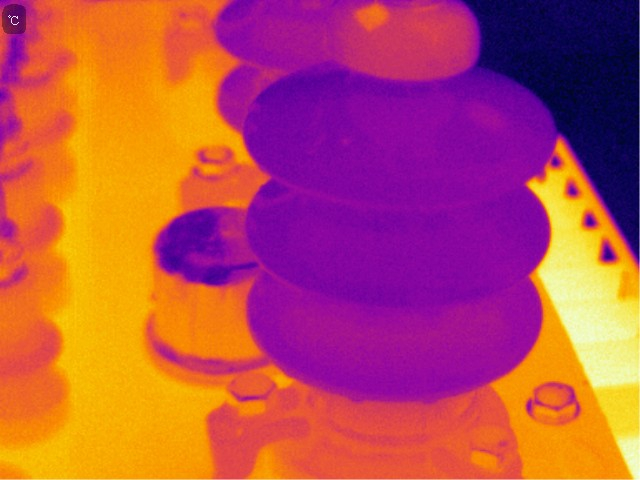Oil: (332, 6, 481, 79), (353, 94, 462, 155), (340, 1, 402, 37), (465, 98, 510, 137), (256, 191, 300, 215), (348, 386, 369, 403), (419, 391, 438, 406), (336, 135, 354, 147)
